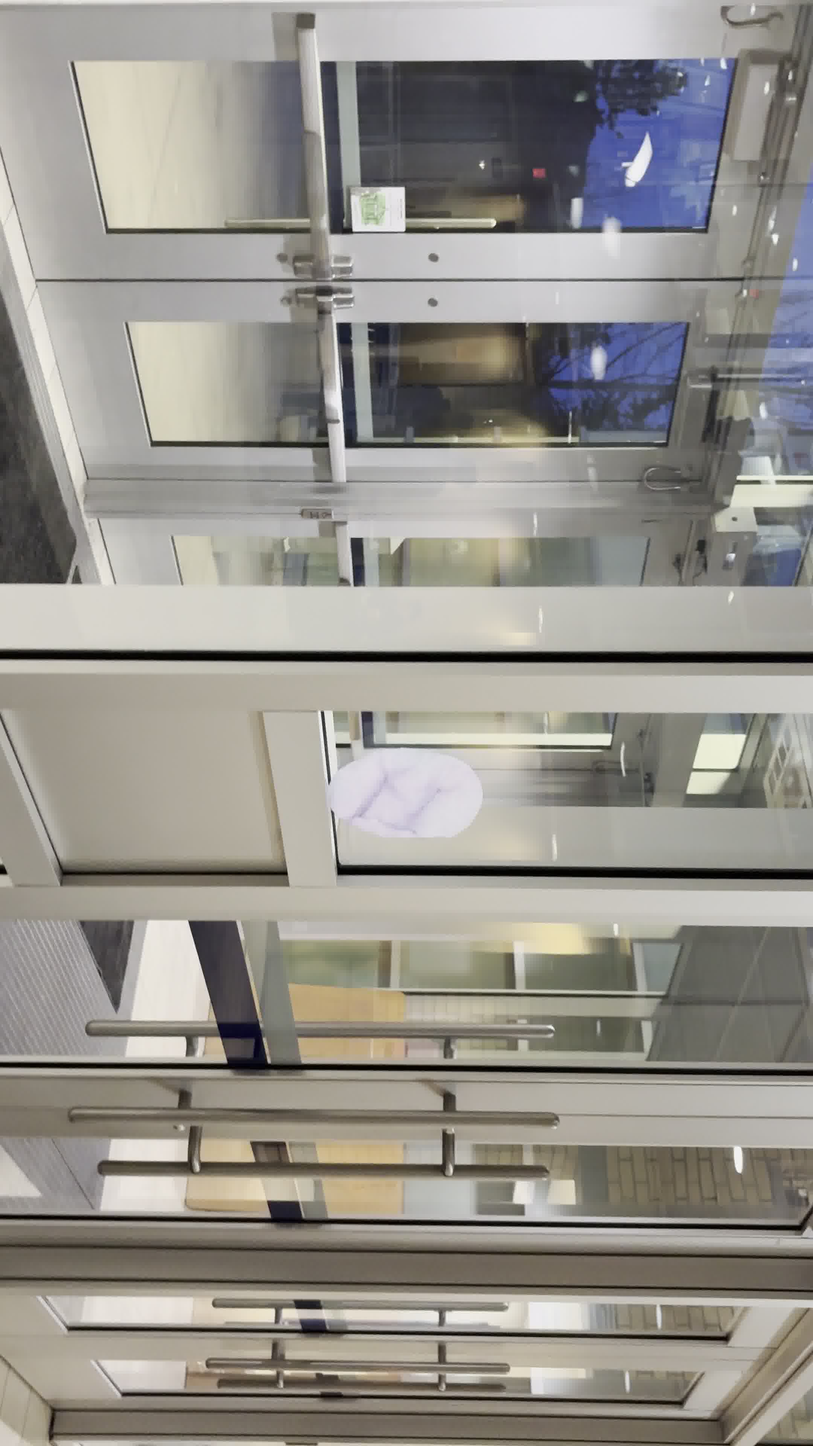Target: (324, 722, 491, 863)
